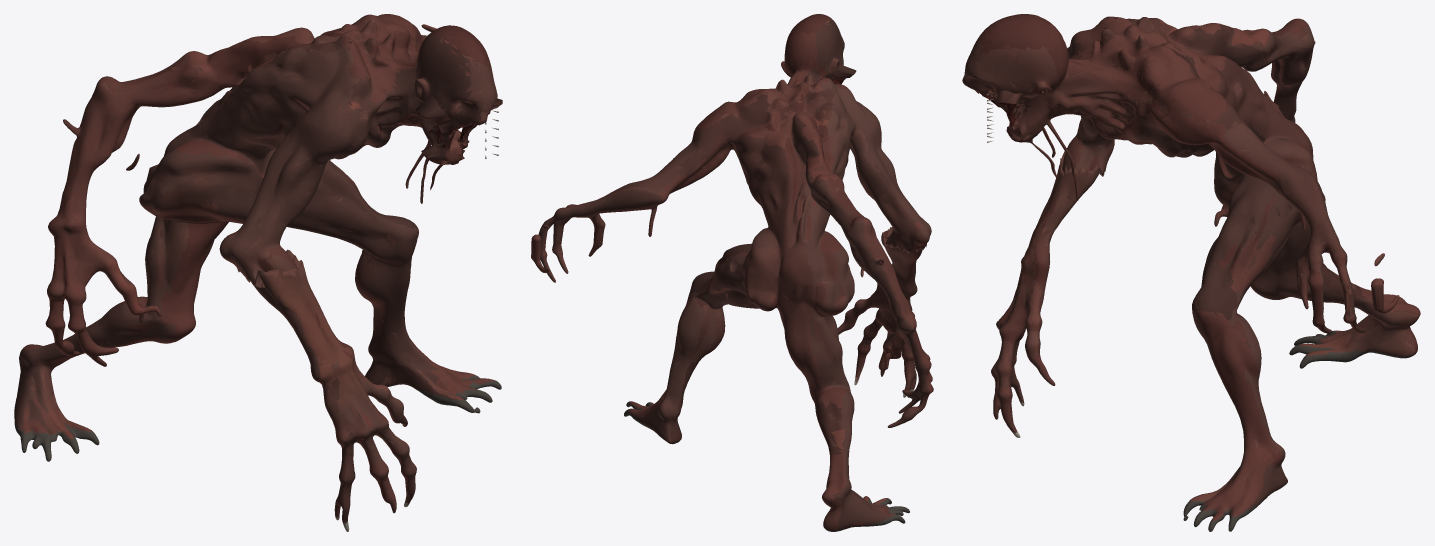
The model's file is imitator_generated_v4.glb.
3 renders of one model, left to right at view 1: azimuth 30°, elevation 25°; view 2: azimuth 150°, elevation 25°; view 3: azimuth 270°, elevation 25°, orthographic. The views are drawn at different scales.
Visible parts, largest first — view 1: Imitator_Generated; view 2: Imitator_Generated; view 3: Imitator_Generated.
Part boxes in pixels (bbox=[...]): Imitator_Generated: bbox=[14, 14, 502, 531]; Imitator_Generated: bbox=[531, 14, 933, 531]; Imitator_Generated: bbox=[962, 14, 1420, 531].
Bounding box in the file's own units: 2.23 × 2.14 × 1.96.
Materials: 4 (1 with a texture image).
